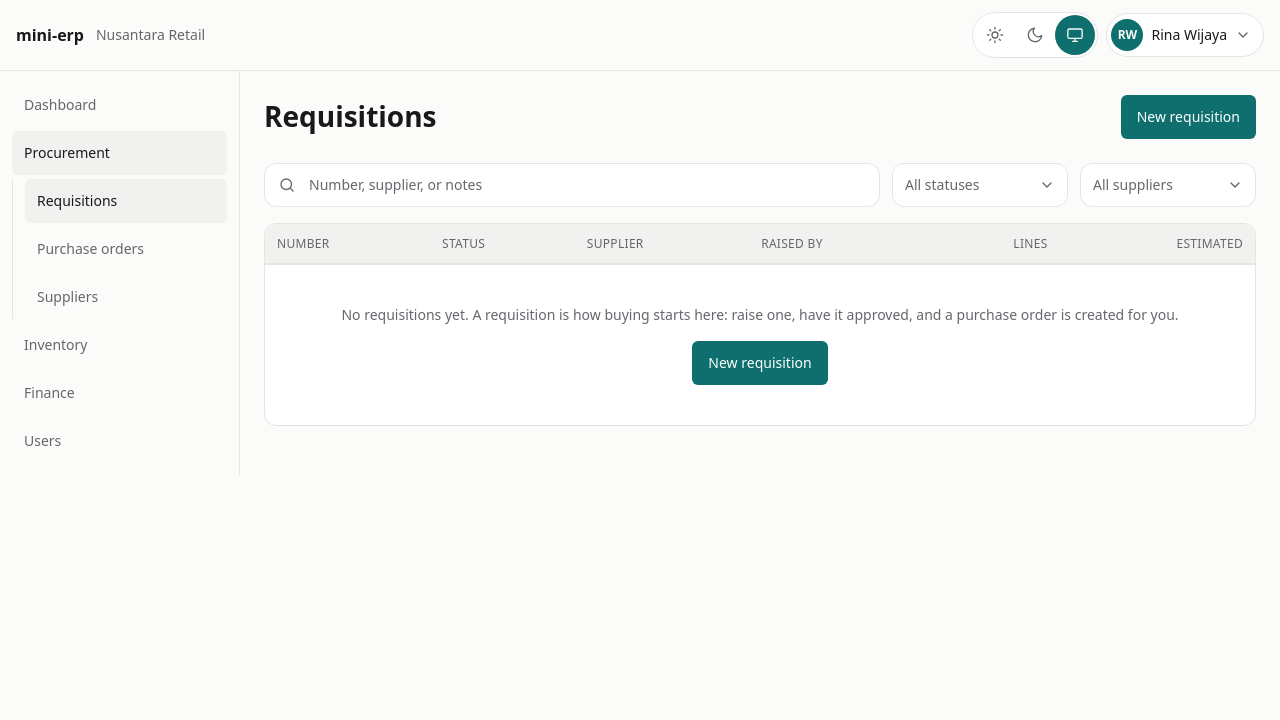
FE31 — the search box and the dropdowns are one row of controls › puts the filter back to everything from its own first row
The width and height of the screenshot is (1280, 720).
expect the link "mini-erp" is shown: met, box [16,23,84,47]
Click the dropdown labelled "status": (980, 185) [892,163,1068,207]
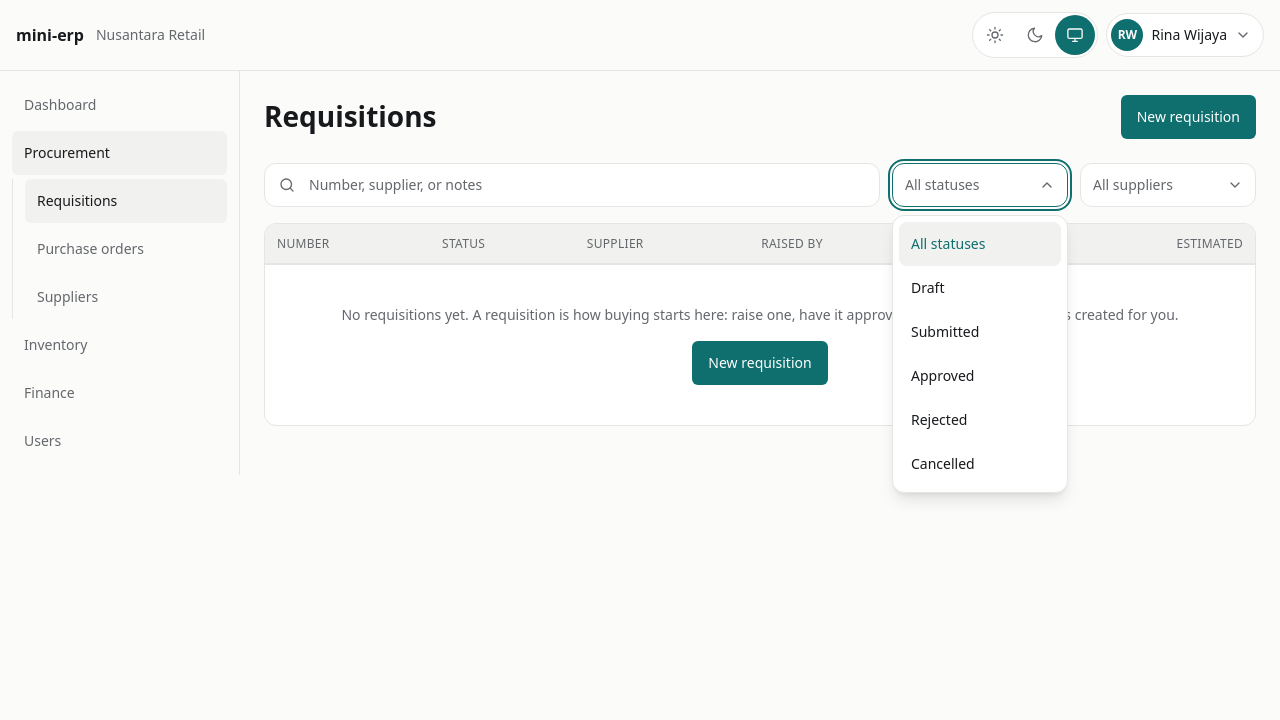
Click the option "Draft": (928, 288) [911,278,944,297]
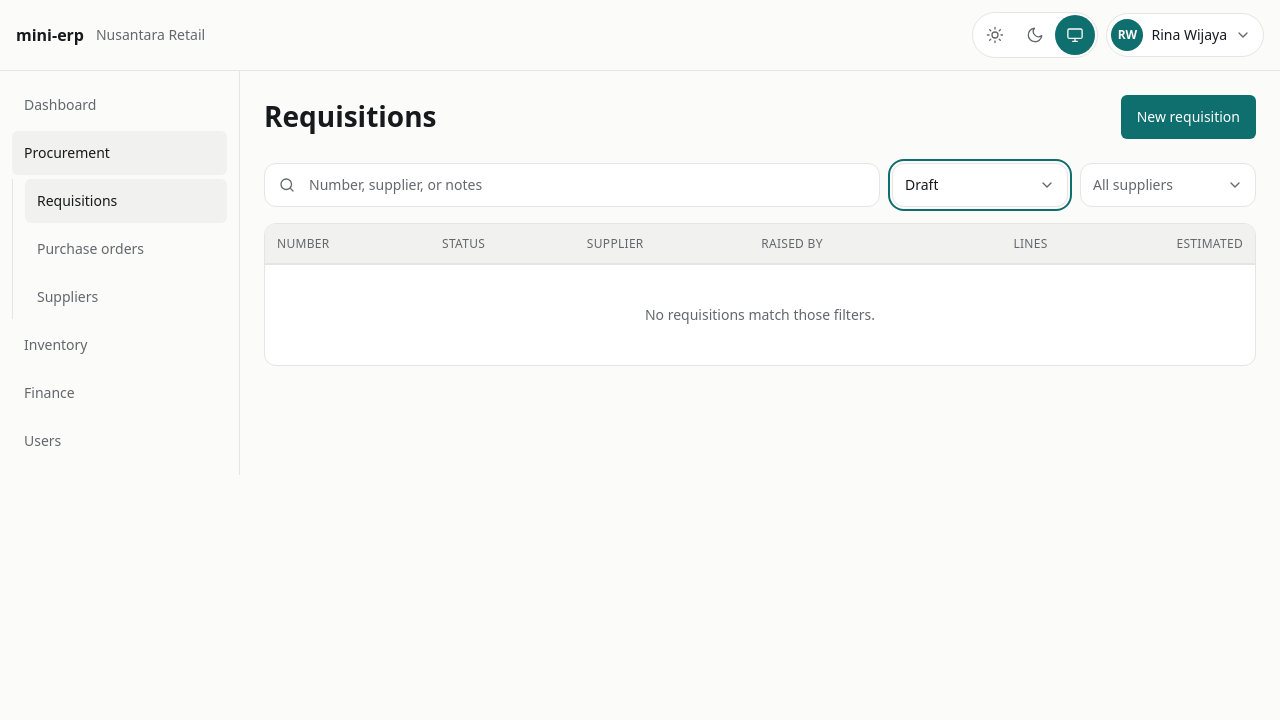
Click the dropdown named "Status": (980, 185) [892,163,1068,207]
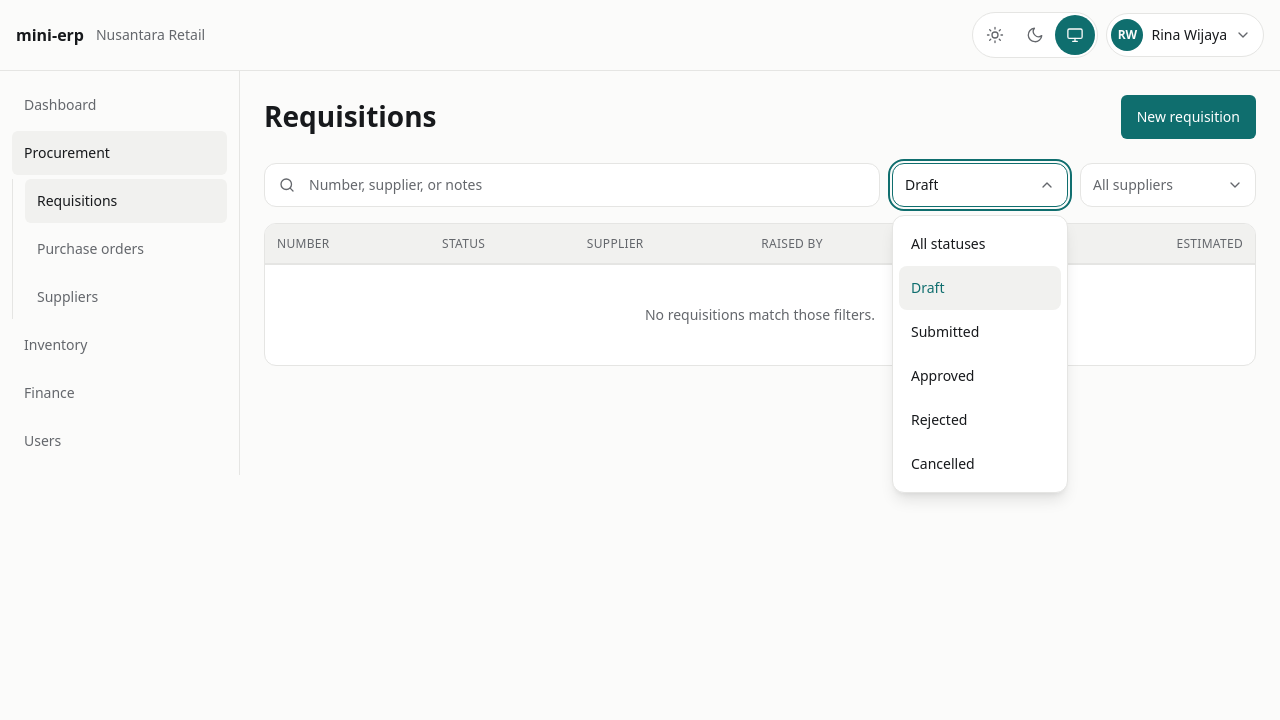
Click the option "All statuses": (948, 244) [911,234,986,253]
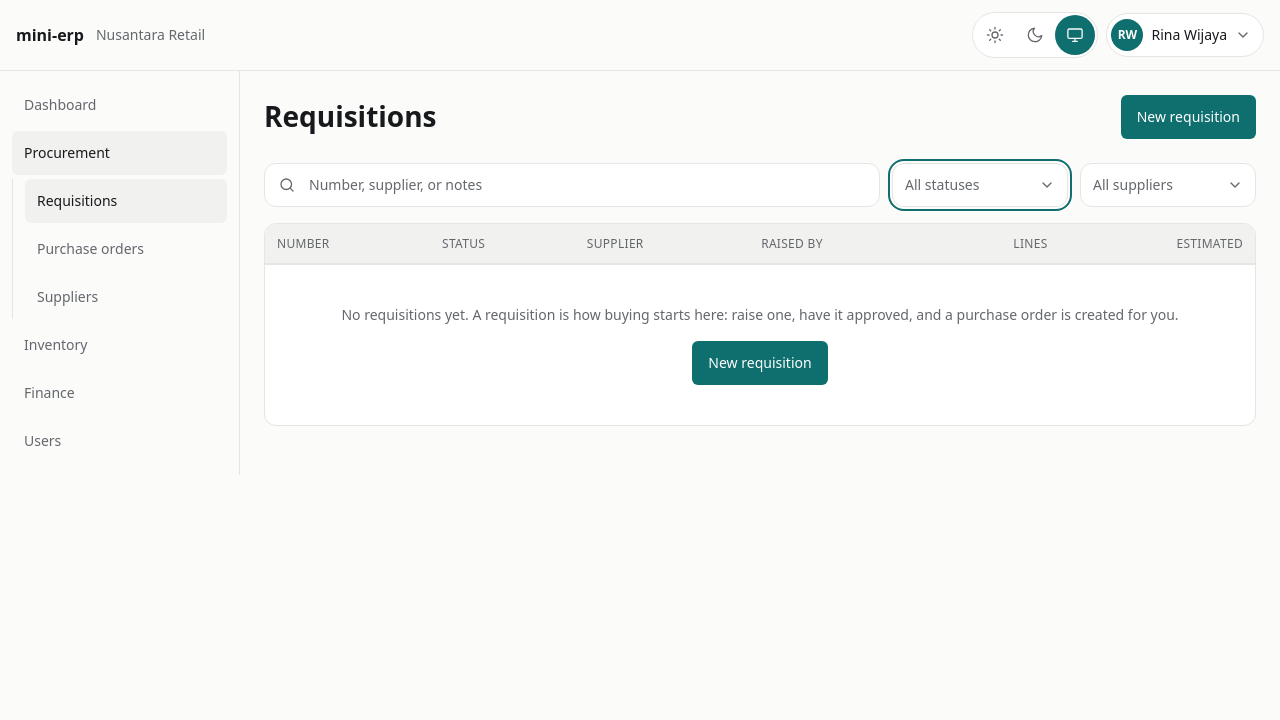
expect the dropdown labelled "status" reads "All statuses": met, box [892,163,1068,207]
